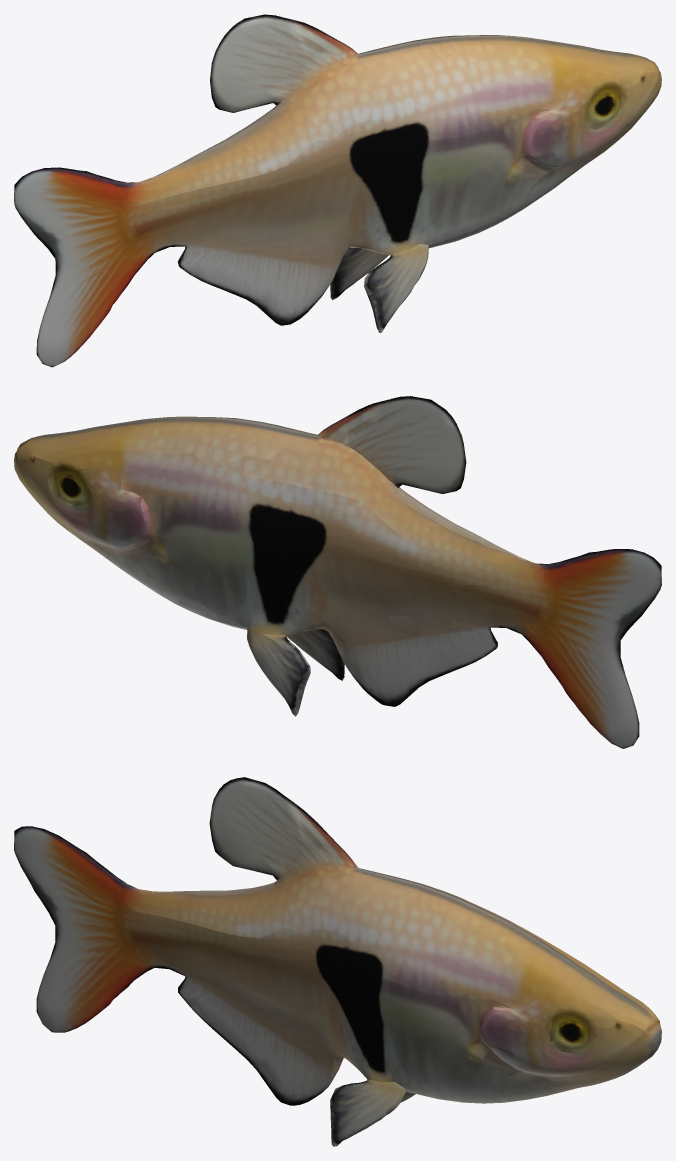
Rendered from harlequin-rasbora.glb.
3 views of the same model, one above another, from view 1: azimuth 30°, elevation 25°; view 2: azimuth 150°, elevation 25°; view 3: azimuth 330°, elevation 25° (orthographic).
Parts seen in each view (by area): view 1: geometry_0; view 2: geometry_0; view 3: geometry_0.
Boxes of the visible parts, <box> form: geometry_0: <box>14,14,661,367</box>; geometry_0: <box>14,396,661,748</box>; geometry_0: <box>14,777,661,1146</box>.
Bounding box in the file's own units: 1 × 0.4844 × 0.1304.
1 material, 1 textured.
